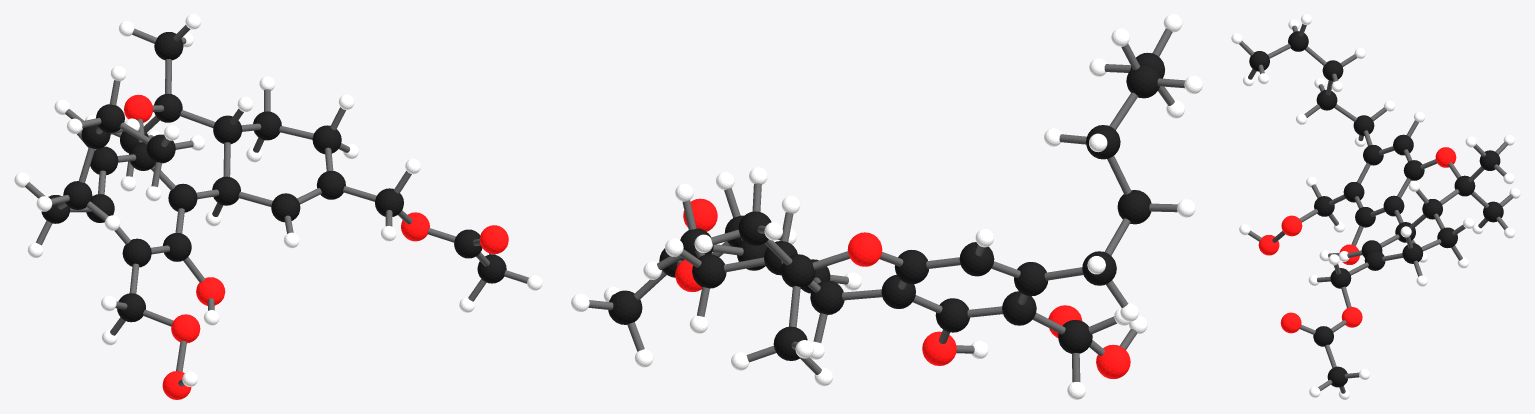
Rendered from molecule.glb.
3 renders of one model, left to right at view 1: azimuth 30°, elevation 25°; view 2: azimuth 150°, elevation 25°; view 3: azimuth 270°, elevation 25°, orthographic. The views are drawn at different scales.
Parts seen in each view (by area): view 1: geometry_22, geometry_13, geometry_8, geometry_11, geometry_17, geometry_16, geometry_9, geometry_3, geometry_23, geometry_15, geometry_1, geometry_28 (+16 smaller); view 2: geometry_29, geometry_14, geometry_9, geometry_3, geometry_15, geometry_24, geometry_1, geometry_21, geometry_12, geometry_5, geometry_26, geometry_7 (+10 smaller); view 3: geometry_22, geometry_13, geometry_19, geometry_20, geometry_29, geometry_7, geometry_5, geometry_17, geometry_6, geometry_9, geometry_14, geometry_4 (+15 smaller).
Boxes of the visible parts, x1,y1,x2,y2 form: geometry_22: (479,225,508,254); geometry_13: (171,314,200,343); geometry_8: (168,183,197,212); geometry_11: (122,238,151,267); geometry_17: (316,170,345,199); geometry_16: (271,193,300,222); geometry_9: (163,233,191,261); geometry_3: (63,181,92,209); geometry_23: (312,125,341,154); geometry_15: (212,176,240,205); geometry_1: (96,104,124,132); geometry_28: (154,32,183,60); geometry_29: (847,232,882,266); geometry_14: (1096,344,1130,378); geometry_9: (935,298,969,332); geometry_3: (1117,190,1151,224); geometry_15: (810,280,844,314); geometry_24: (692,254,726,288); geometry_1: (1126,64,1160,98); geometry_21: (608,290,642,324); geometry_12: (1058,320,1092,353); geometry_5: (1014,262,1047,296); geometry_26: (781,254,815,288); geometry_7: (894,250,928,284); geometry_22: (1280,312,1301,333); geometry_13: (1281,215,1302,236); geometry_19: (1341,307,1362,327); geometry_20: (1313,326,1333,346); geometry_29: (1435,147,1456,167); geometry_7: (1403,160,1424,180); geometry_5: (1363,145,1383,165); geometry_17: (1364,250,1385,270); geometry_6: (1393,134,1413,155); geometry_9: (1355,207,1375,227); geometry_14: (1258,235,1279,255); geometry_4: (1353,115,1374,135).
Bounding box in the file's own units: 0.257 × 0.175 × 0.1804.
